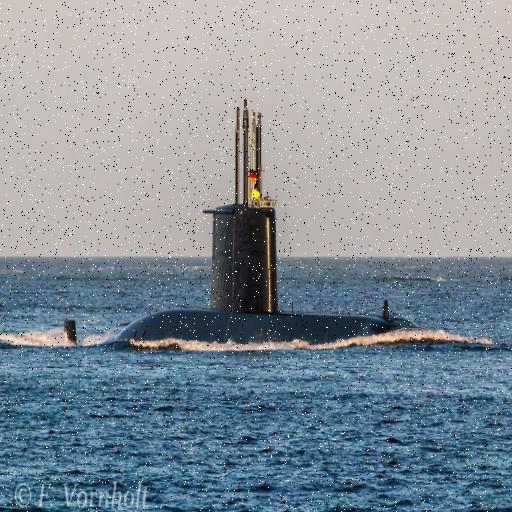submarine: (64, 94, 428, 343)
